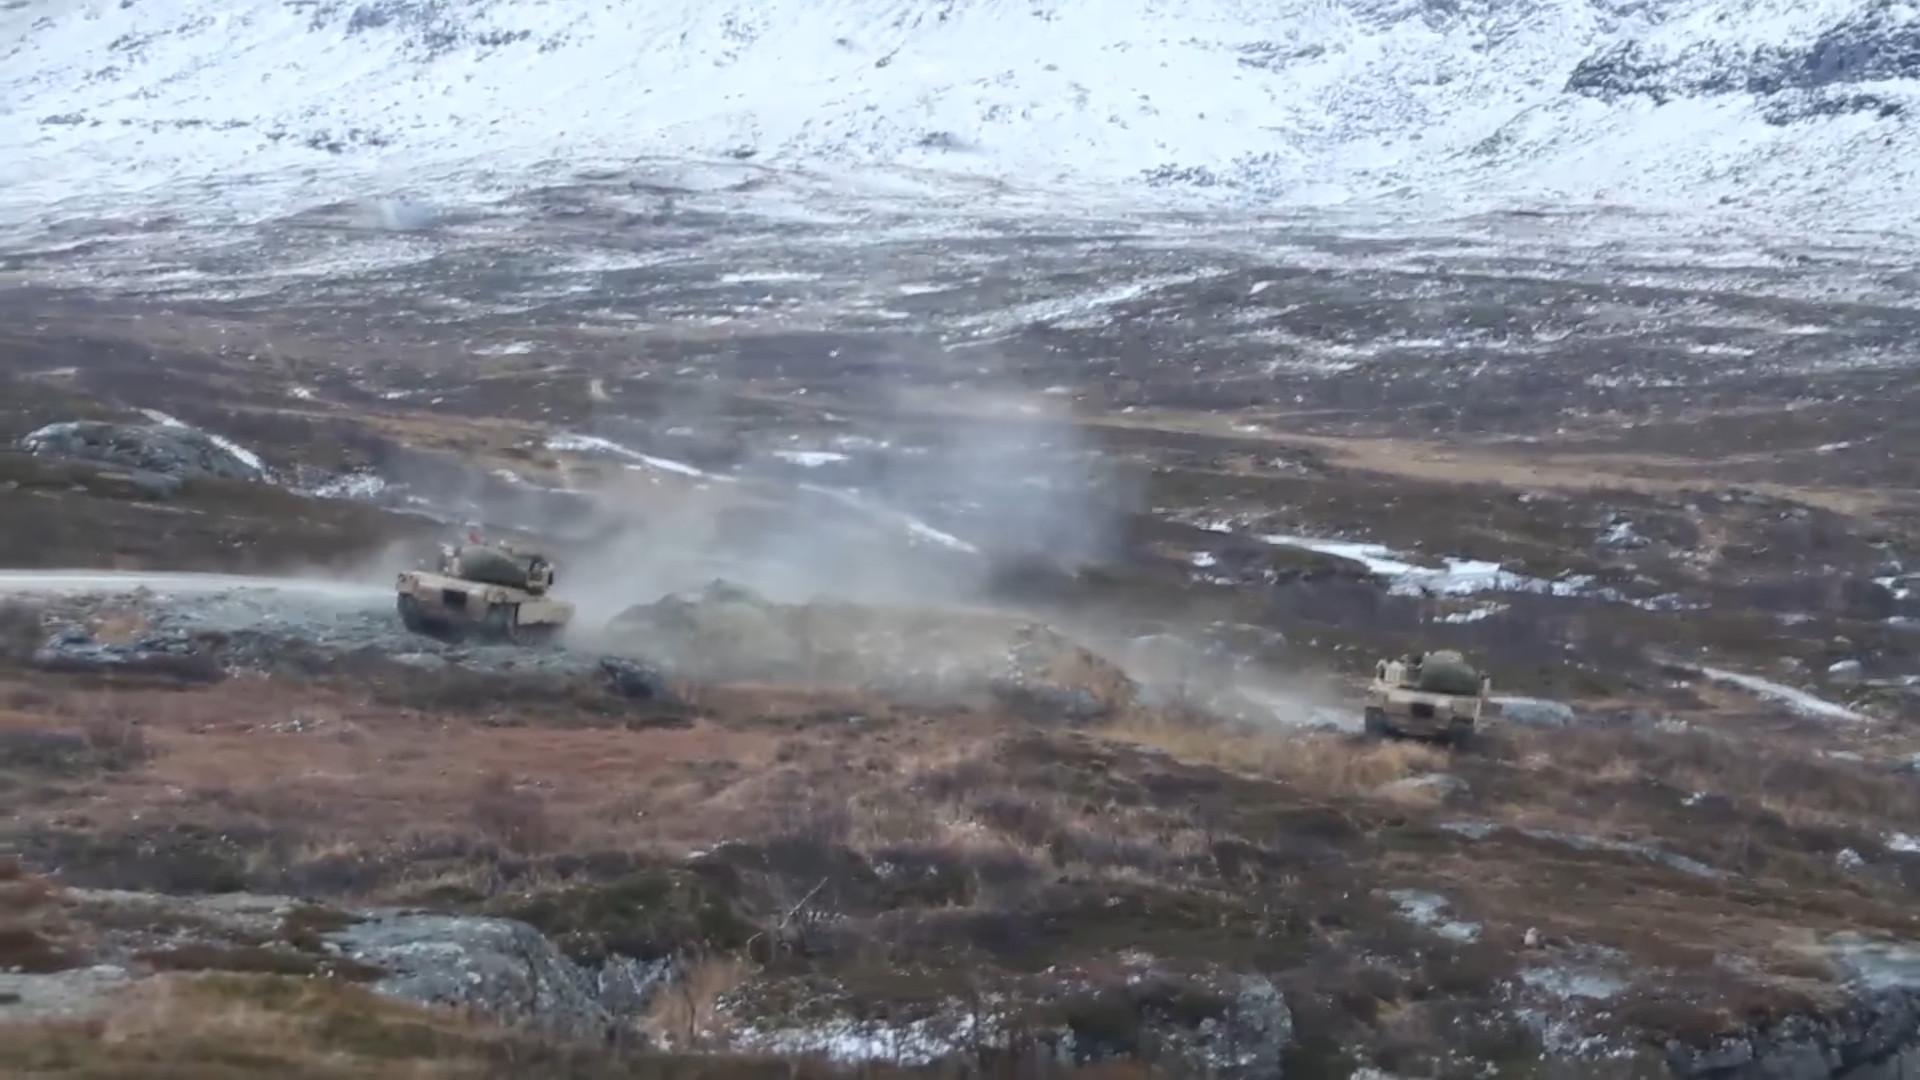tank: (396, 541, 575, 644), (1362, 649, 1490, 742)
